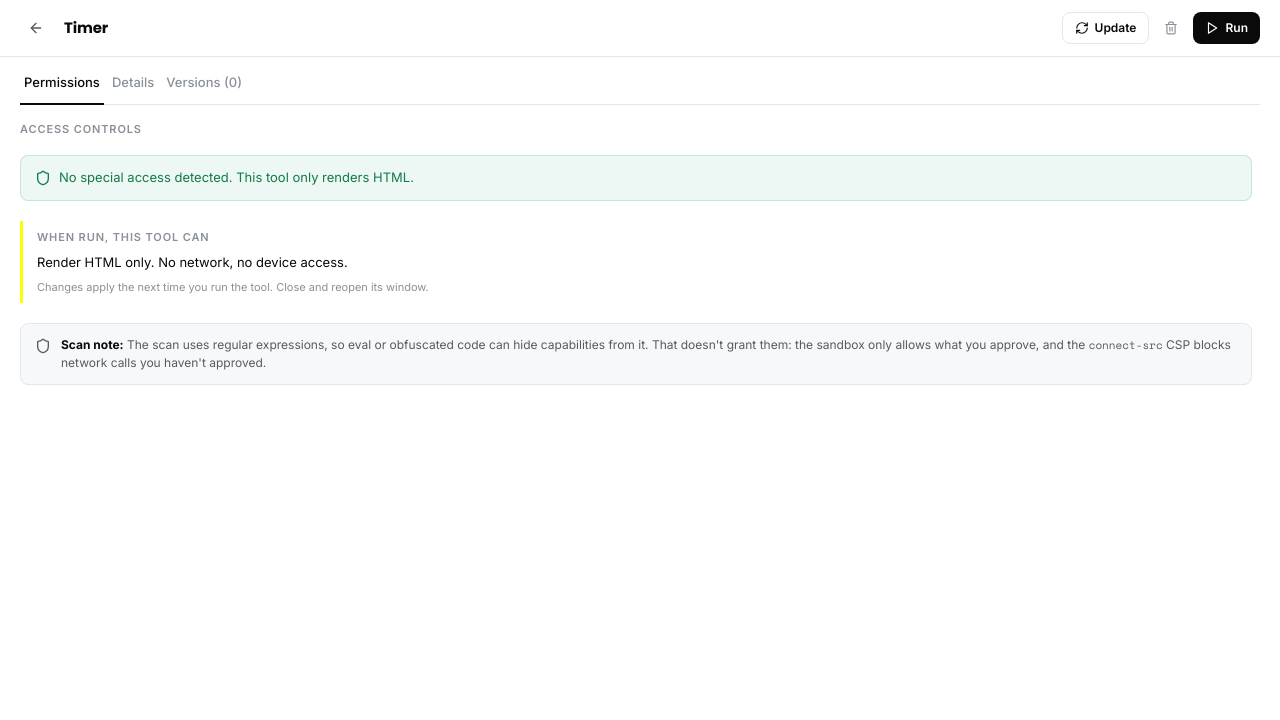
Test: changing a tool with Codex › says why when the window cannot open, and keeps the panel
Click the button "Update" at x=1105, y=28, box [1062,12,1149,44]
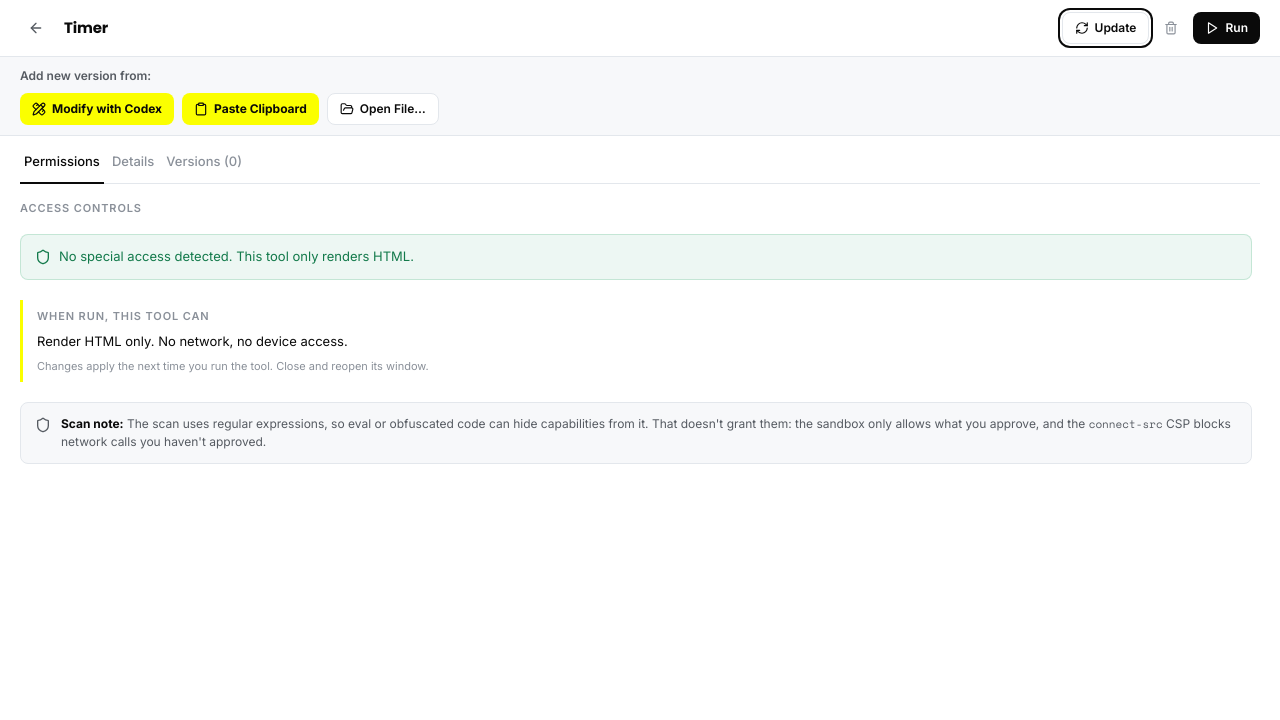
Click the button "Modify with Codex" at x=97, y=109, box [20,93,174,125]
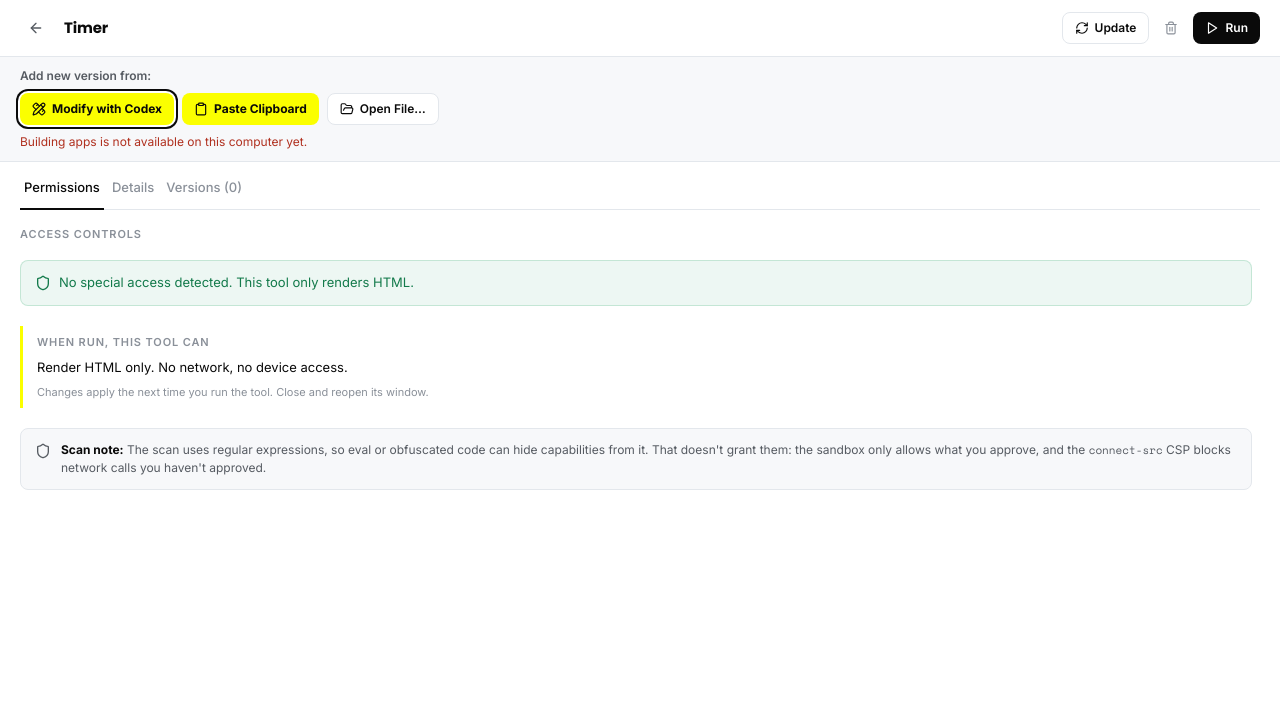
Check: the button "Modify with Codex" is shown, box [20,93,174,125]
Check: the text "Building apps is not available on this computer yet." is shown, box [20,134,307,149]
